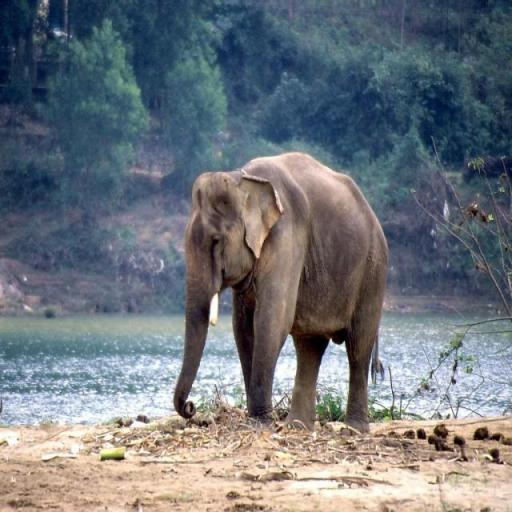Elephant: (172, 150, 390, 434)
